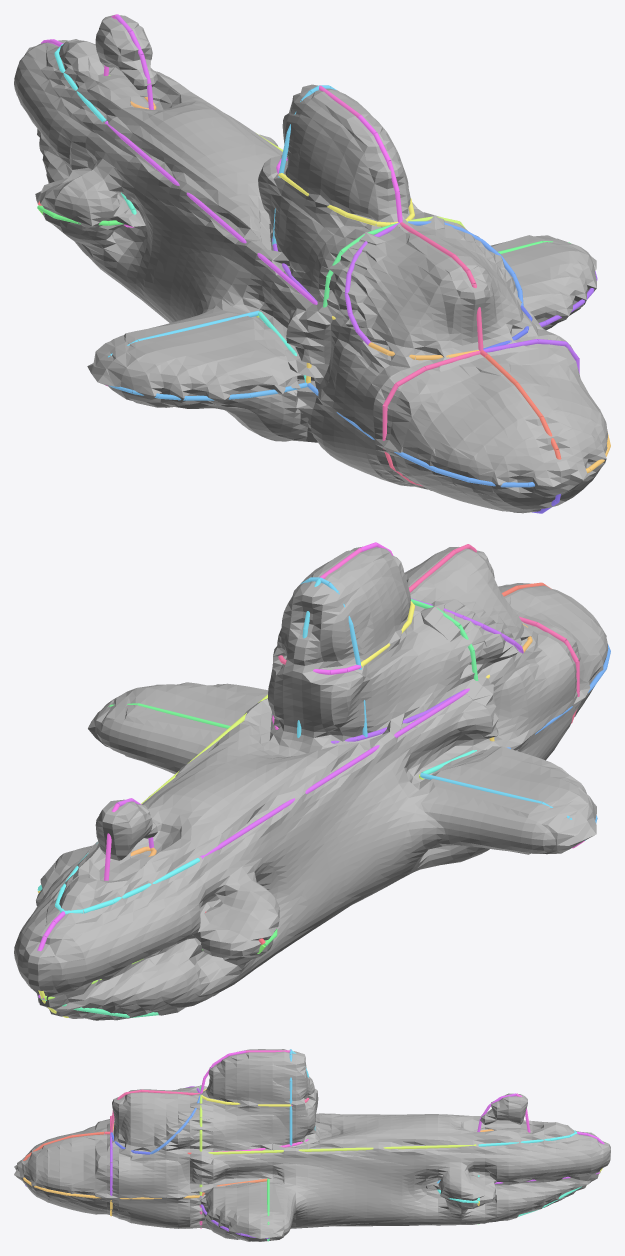
File: scaffolds3d_submarine.gltf
3 renders of one model, top to bottom at view 1: azimuth 30°, elevation 25°; view 2: azimuth 150°, elevation 25°; view 3: azimuth 270°, elevation 25°, orthographic. The views are drawn at different scales.
Bounding box in the file's own units: 0.4681 × 0.2703 × 0.8706.
